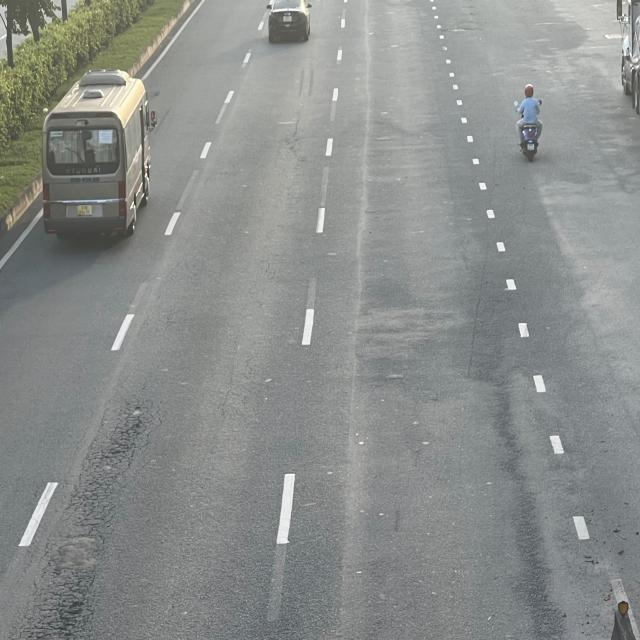car: (267, 0, 313, 41)
coach: (40, 72, 156, 238)
